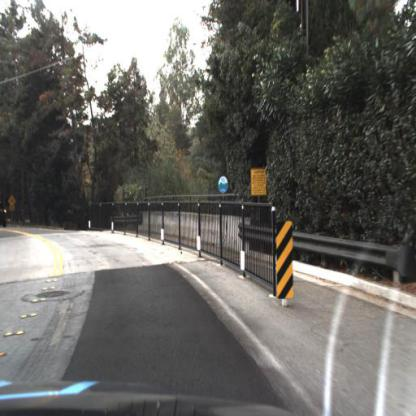car: (1, 195, 13, 223)
